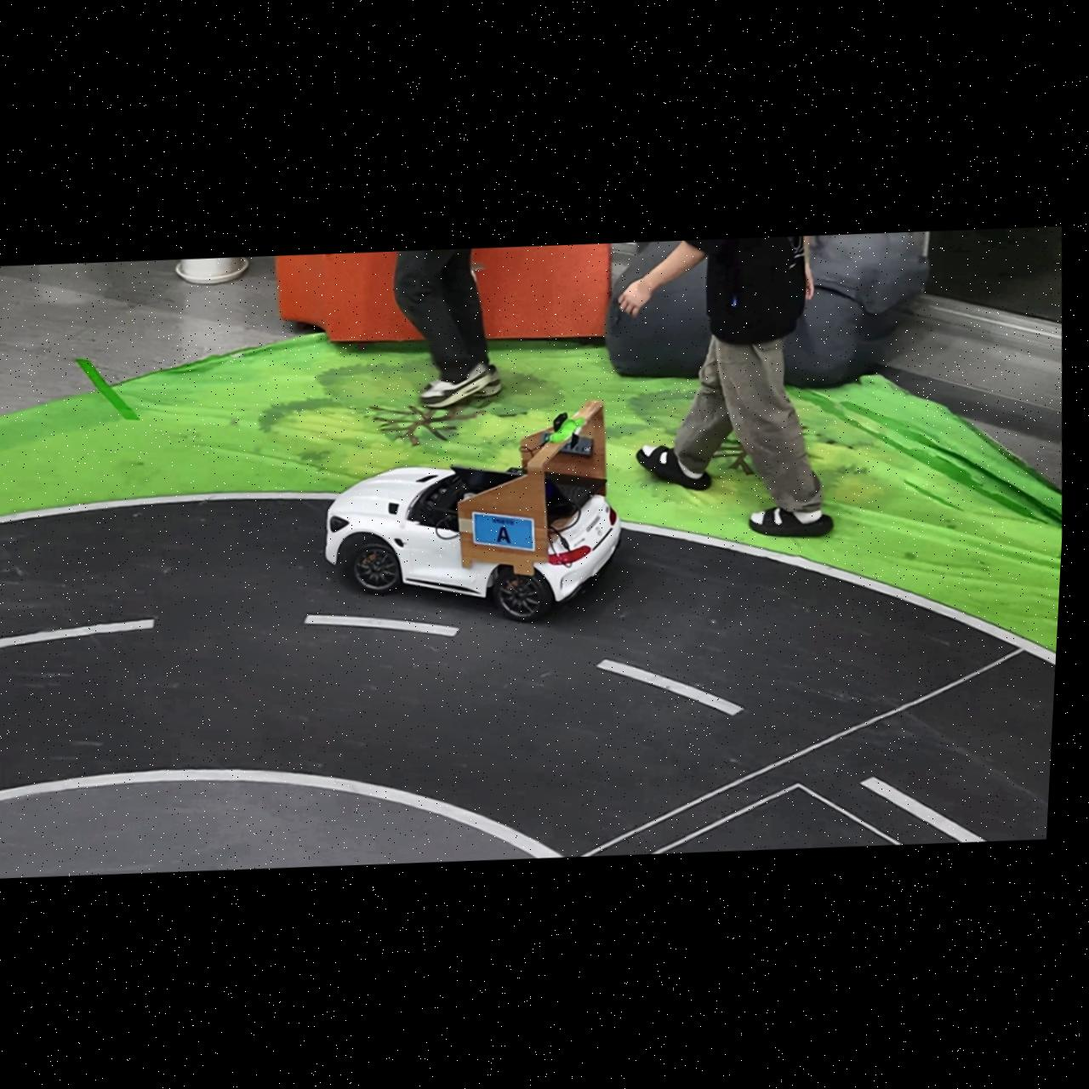broken_line: (596, 659, 744, 715), (859, 776, 986, 841), (0, 619, 154, 648), (303, 614, 460, 636)
